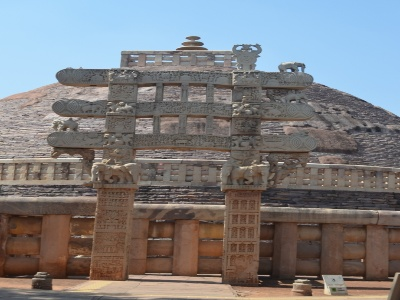torana: (43, 46, 313, 250)
